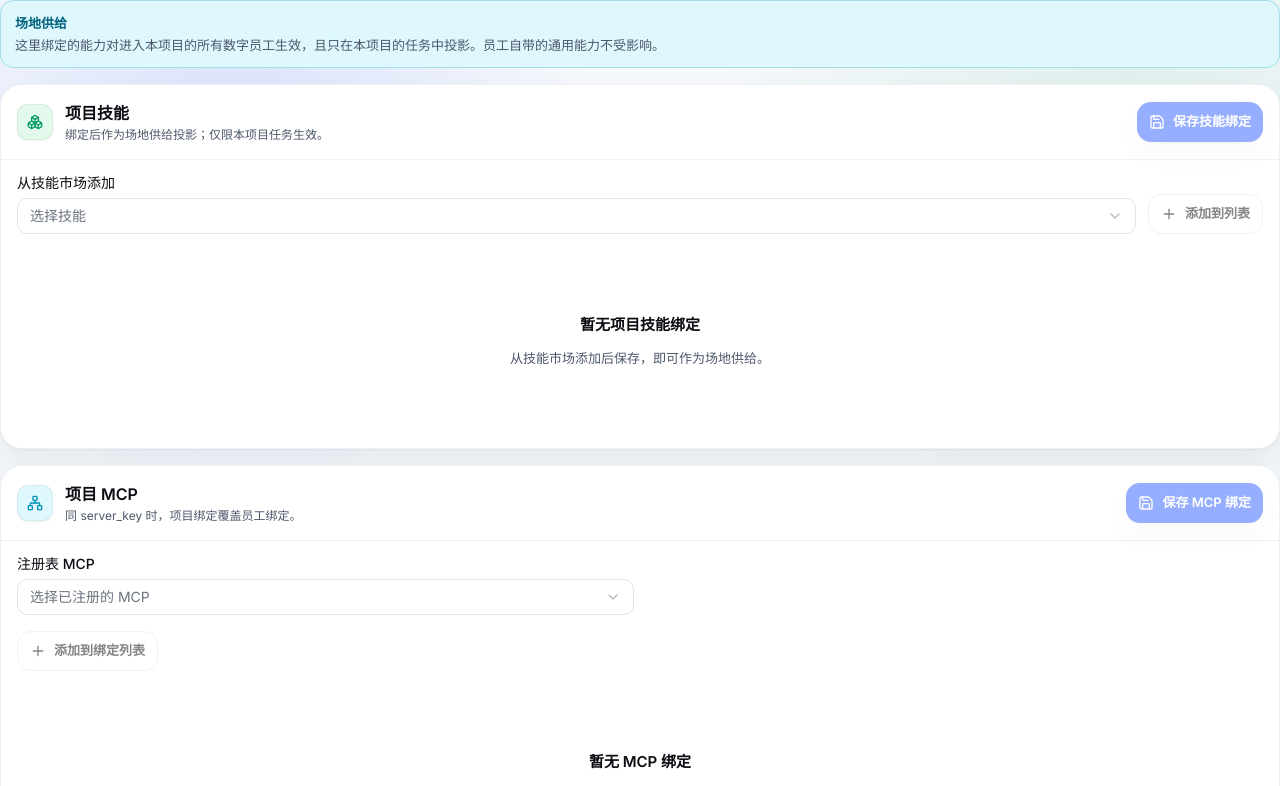
it: ProjectCapabilityBindingsPanel › MCP PUT 缺服务端错误时保留草稿 message
Expected: the heading "项目 MCP" is shown, [65,482,138,506]
Click the dropdown named "注册表 MCP" at (90,596), box [17,579,634,615]
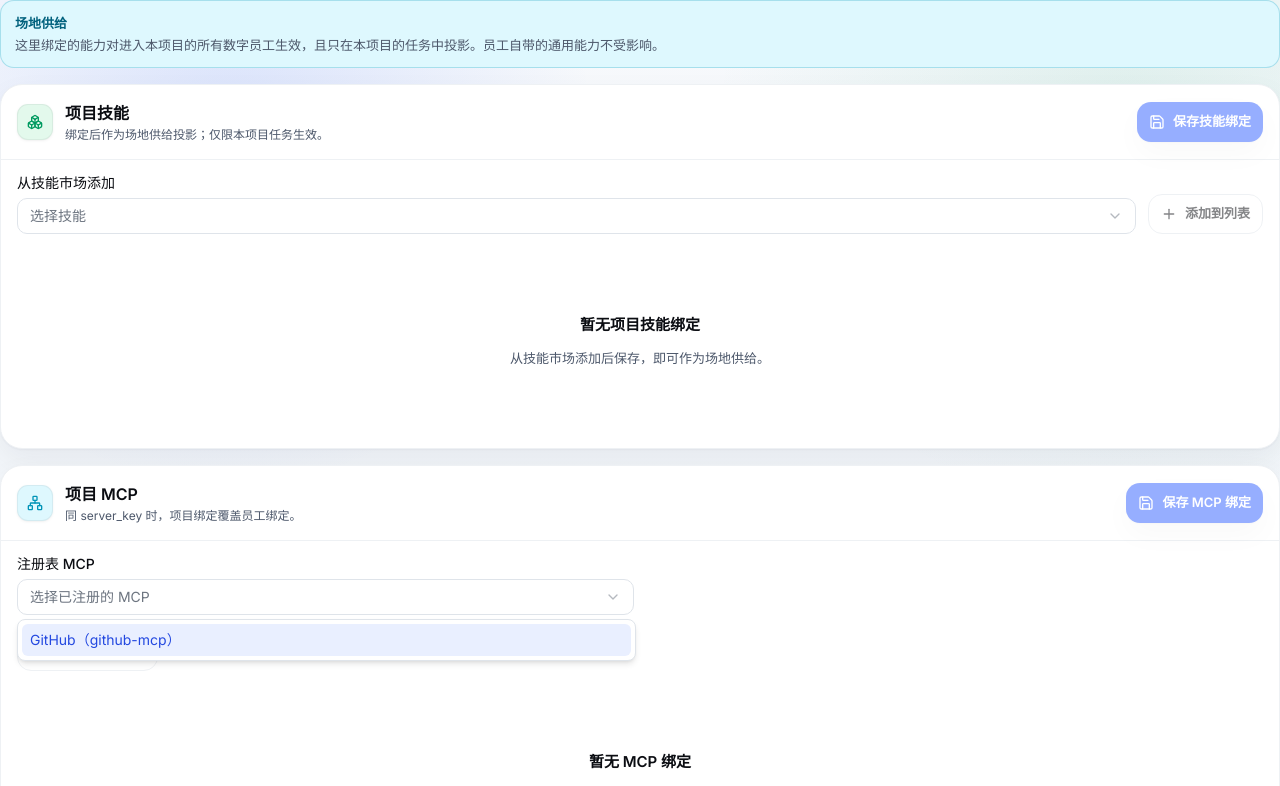
Click the option "GitHub（github-mcp）" at (53,640), box [22,624,631,656]
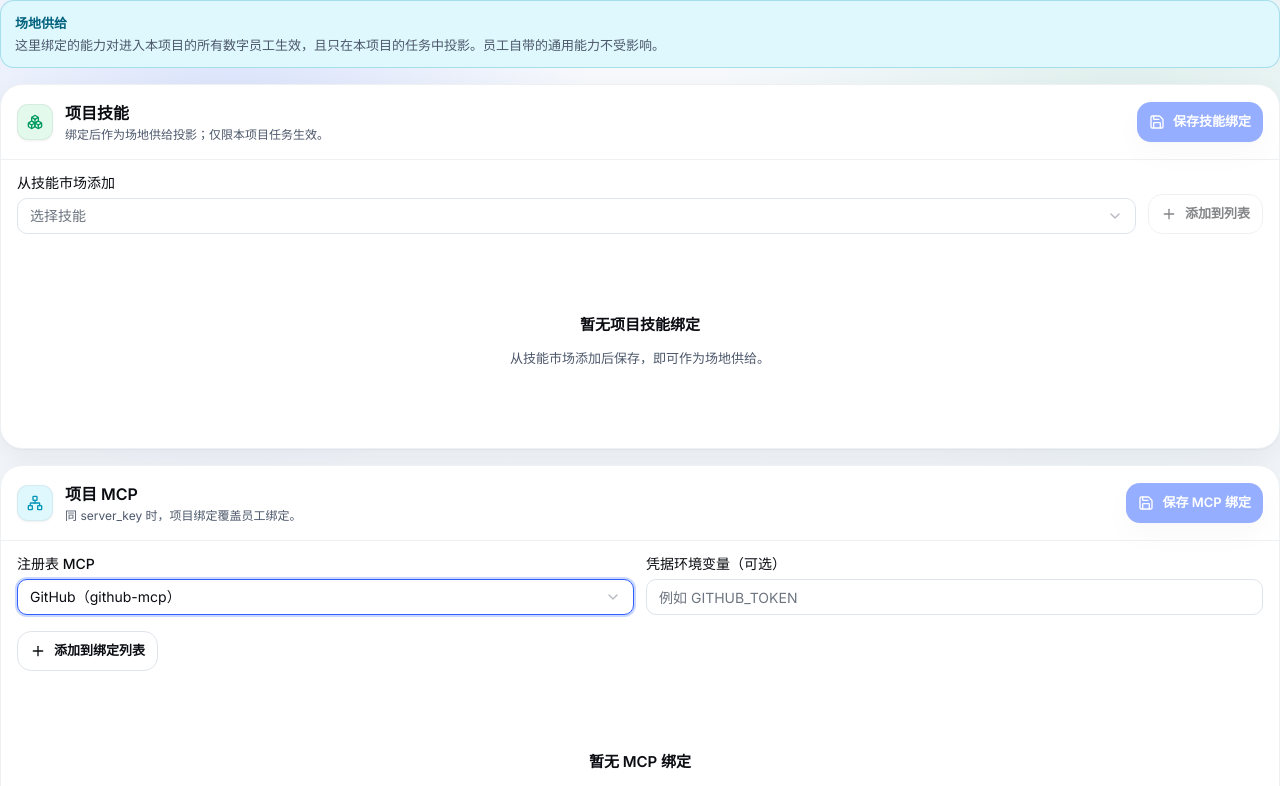
Click the button "添加到绑定列表" at (88,651), box [17,631,158,671]
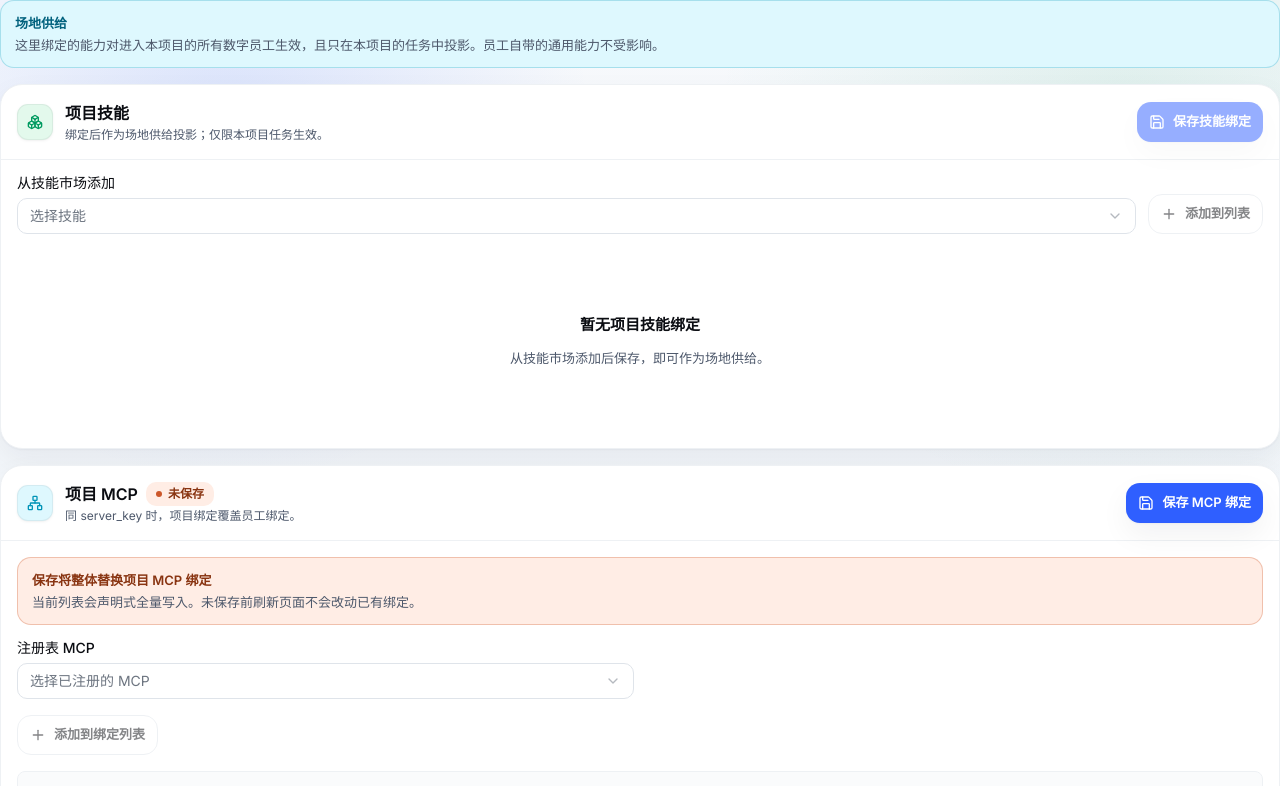
Expected: the text "未保存" is shown, [146,482,214,506]
Click the button "保存 MCP 绑定" at (1195,503), box [1126,483,1263,523]
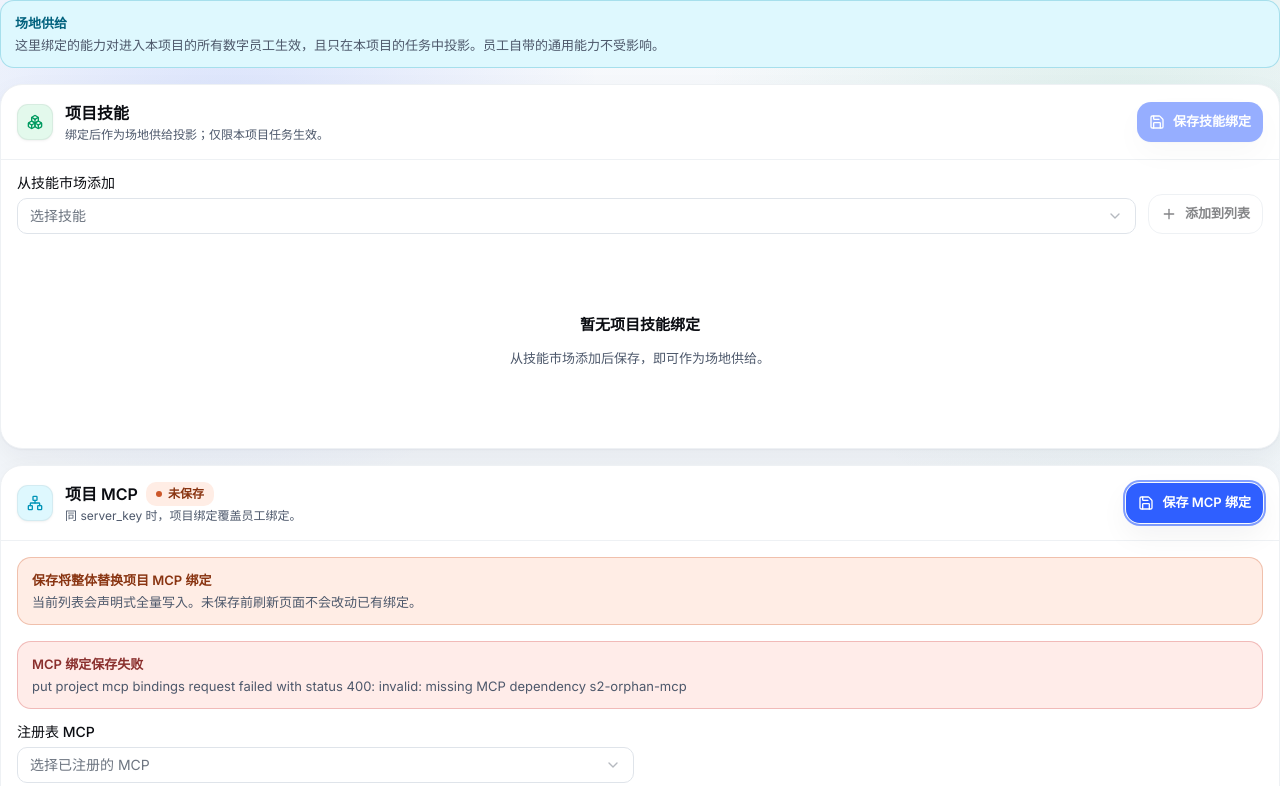
Expected: the text "未保存" is shown, [146,482,214,506]
Expected: the text "s2-orphan-mcp" is shown, [32,678,687,694]
